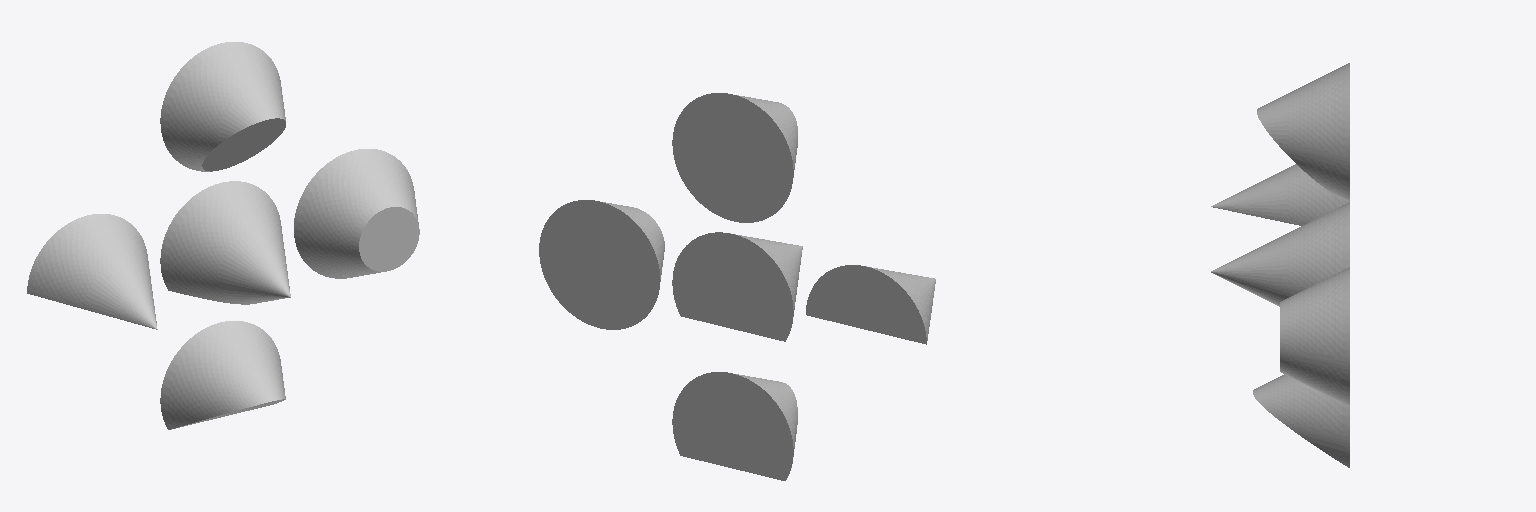
File: conic_sections.obj
3 views of the same model, side by side, from view 1: azimuth 30°, elevation 25°; view 2: azimuth 150°, elevation 25°; view 3: azimuth 270°, elevation 25° (orthographic).
Parts seen in each view (by area): view 1: <STL_BINARY>; view 2: <STL_BINARY>; view 3: <STL_BINARY>.
Boxes of the visible parts, x1=… form: <STL_BINARY>: x1=27, y1=42, x2=419, y2=429; <STL_BINARY>: x1=539, y1=93, x2=935, y2=480; <STL_BINARY>: x1=1211, y1=63, x2=1349, y2=467.
Bounding box in the file's own units: 320 × 295 × 100.